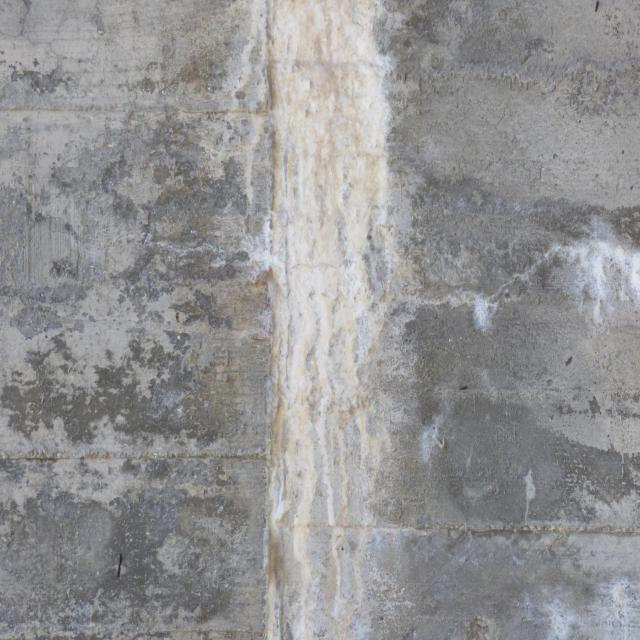Rebar: (116, 553, 125, 580)
diagonal crack: (423, 235, 592, 312)
